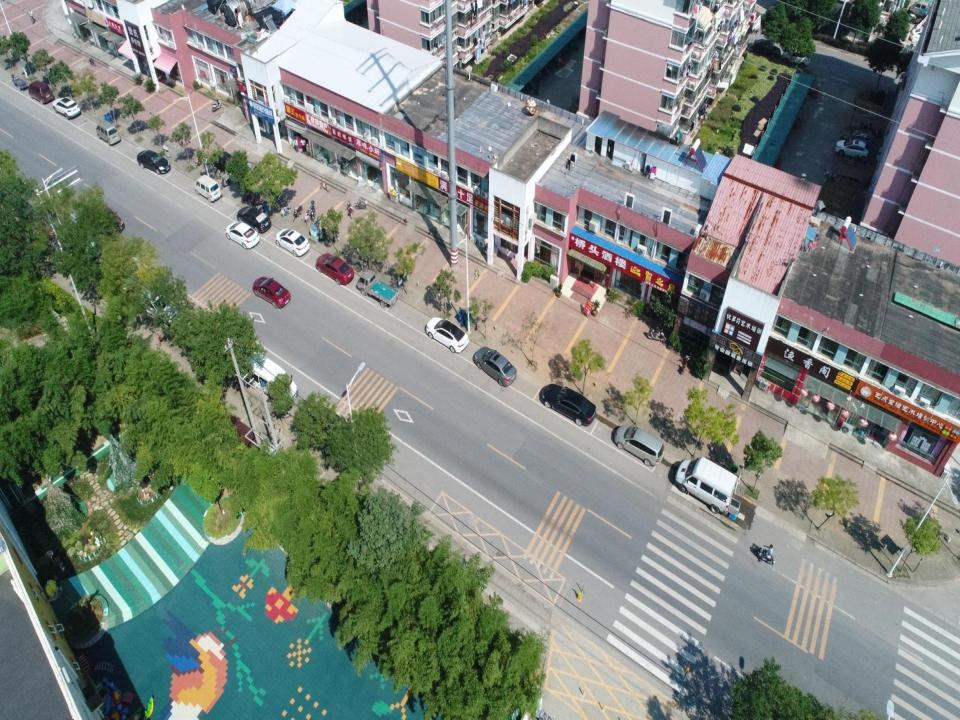car: (306, 404, 356, 456), (541, 382, 597, 426), (57, 218, 102, 264), (180, 313, 223, 358), (474, 346, 518, 387), (425, 316, 470, 354), (83, 197, 125, 236), (138, 288, 178, 326), (252, 276, 291, 308), (315, 253, 354, 285), (104, 256, 139, 291), (0, 186, 34, 222), (225, 220, 260, 250), (275, 228, 310, 257), (236, 206, 272, 234), (27, 209, 56, 240), (209, 150, 242, 177), (136, 149, 170, 175), (834, 138, 869, 163), (243, 161, 270, 188), (52, 96, 81, 120), (842, 128, 876, 148), (780, 48, 810, 70), (753, 39, 781, 59), (911, 33, 936, 47), (910, 26, 934, 40)
truck: (357, 268, 399, 308), (910, 0, 942, 18)
van: (221, 337, 299, 408), (674, 456, 737, 516), (614, 424, 664, 467), (194, 174, 222, 203), (28, 79, 55, 105), (96, 119, 121, 146)
